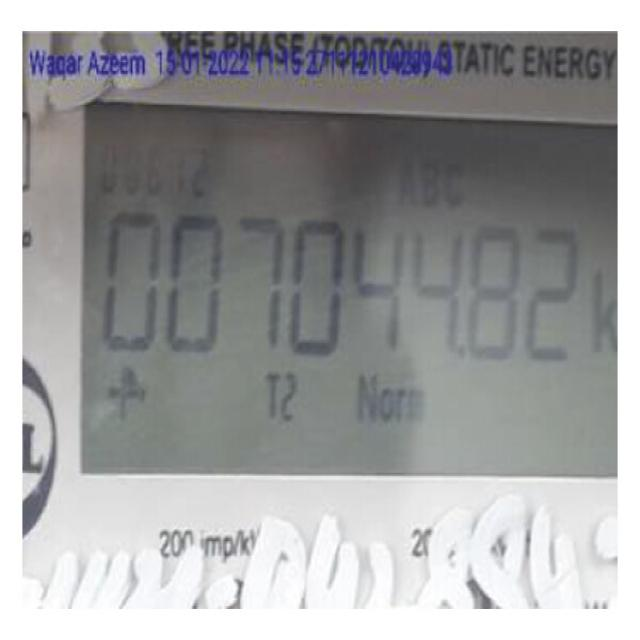.: (455, 342, 468, 362)
0: (165, 198, 232, 362), (290, 189, 348, 364), (103, 201, 164, 361)
2: (523, 198, 586, 376)
4: (350, 199, 411, 364), (411, 198, 467, 368)
7: (234, 193, 290, 360)
8: (466, 199, 522, 372)
Digital meter: (91, 102, 620, 484)
